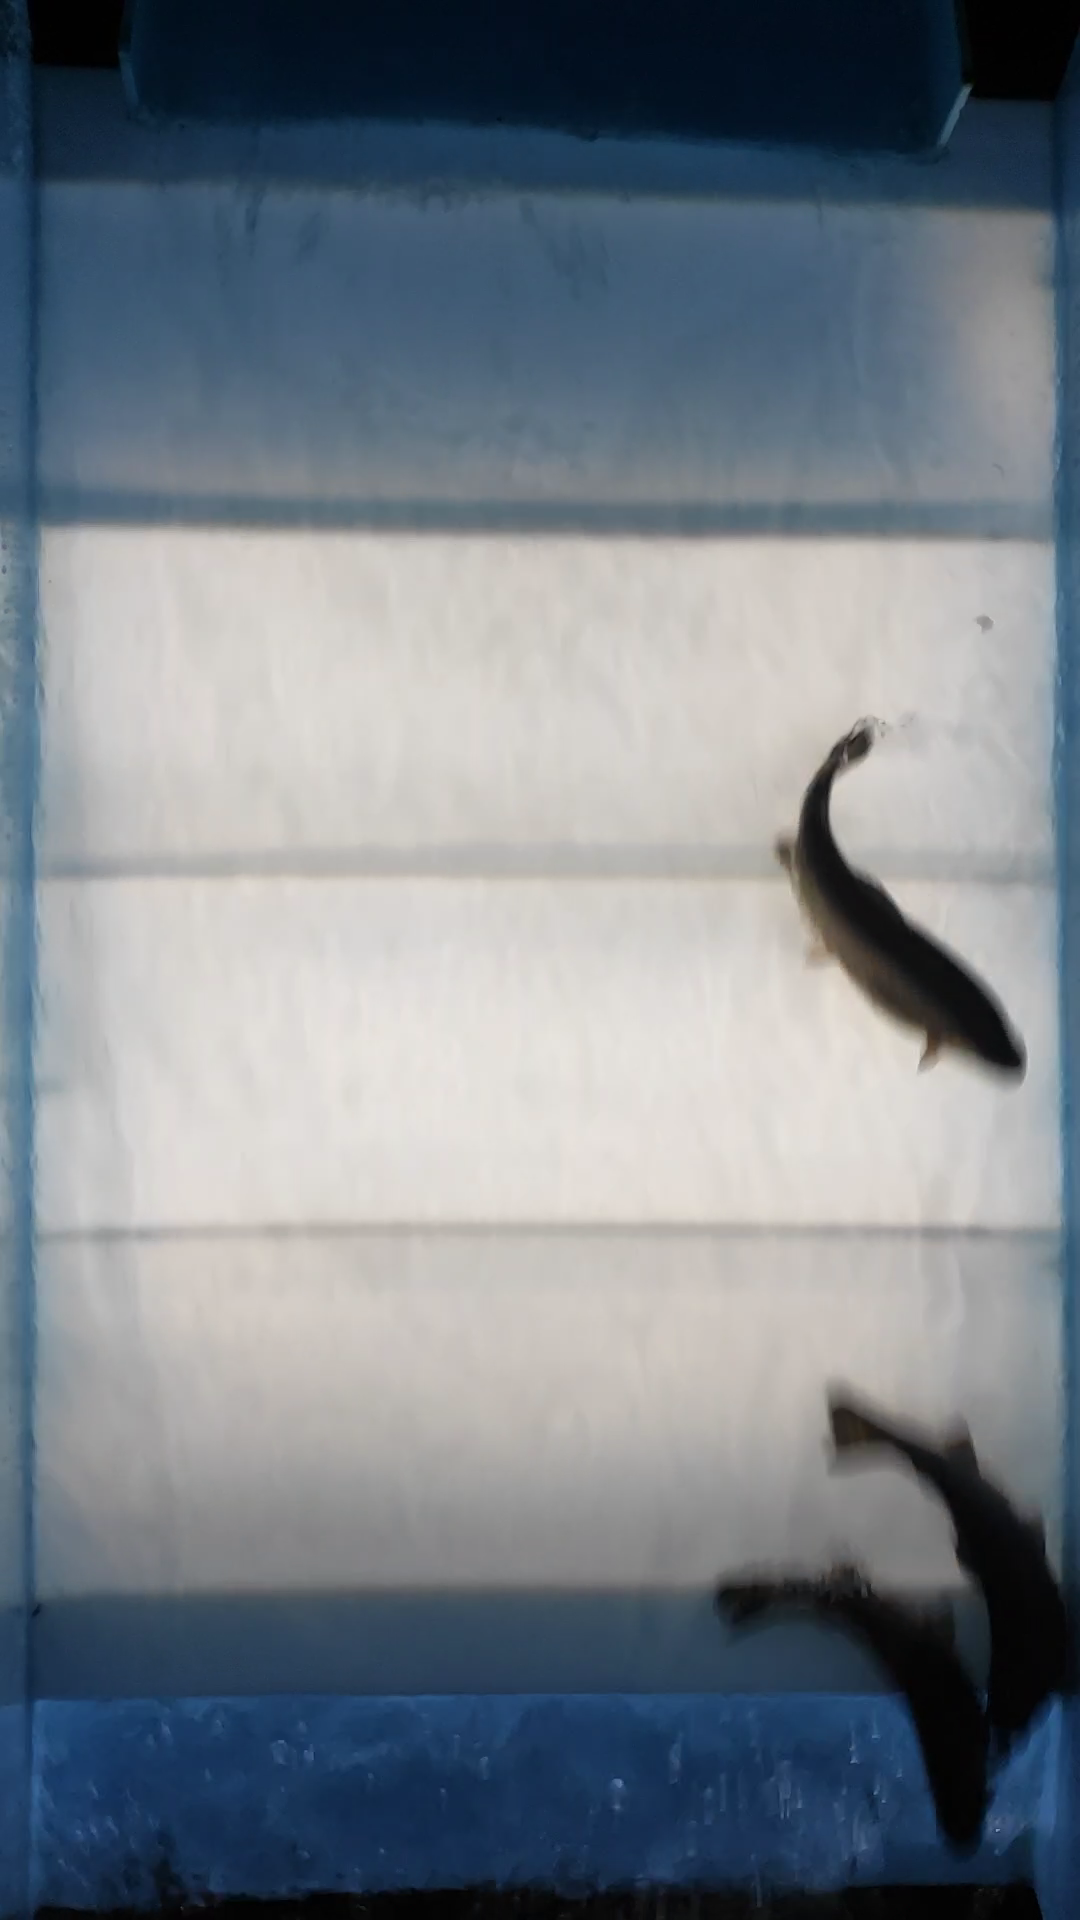fish: (814, 1377, 1080, 1776), (766, 712, 1031, 1087), (716, 1565, 1001, 1865)
